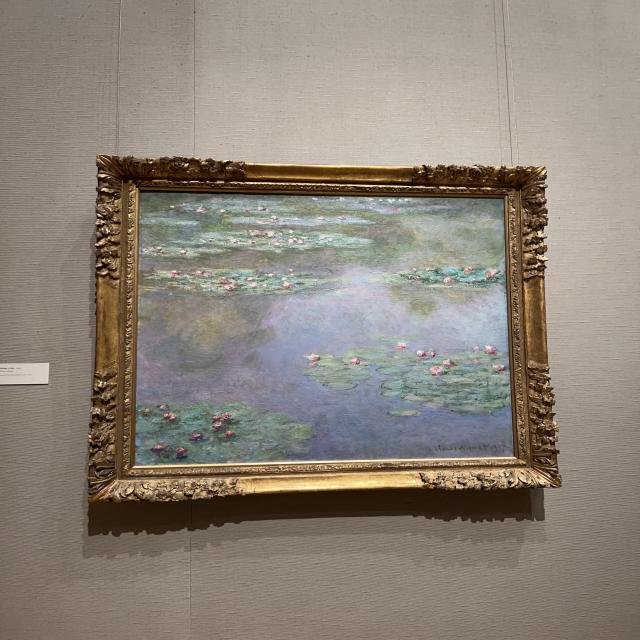lilies: (134, 191, 513, 466)
